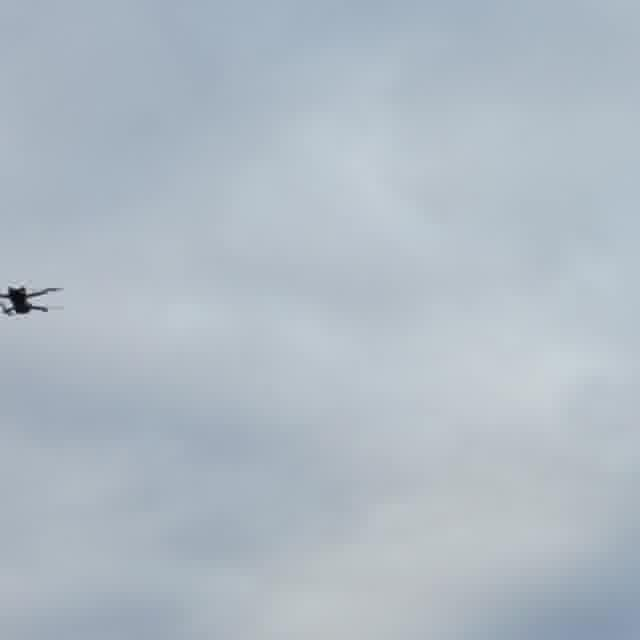Drohne: (0, 286, 62, 315)
